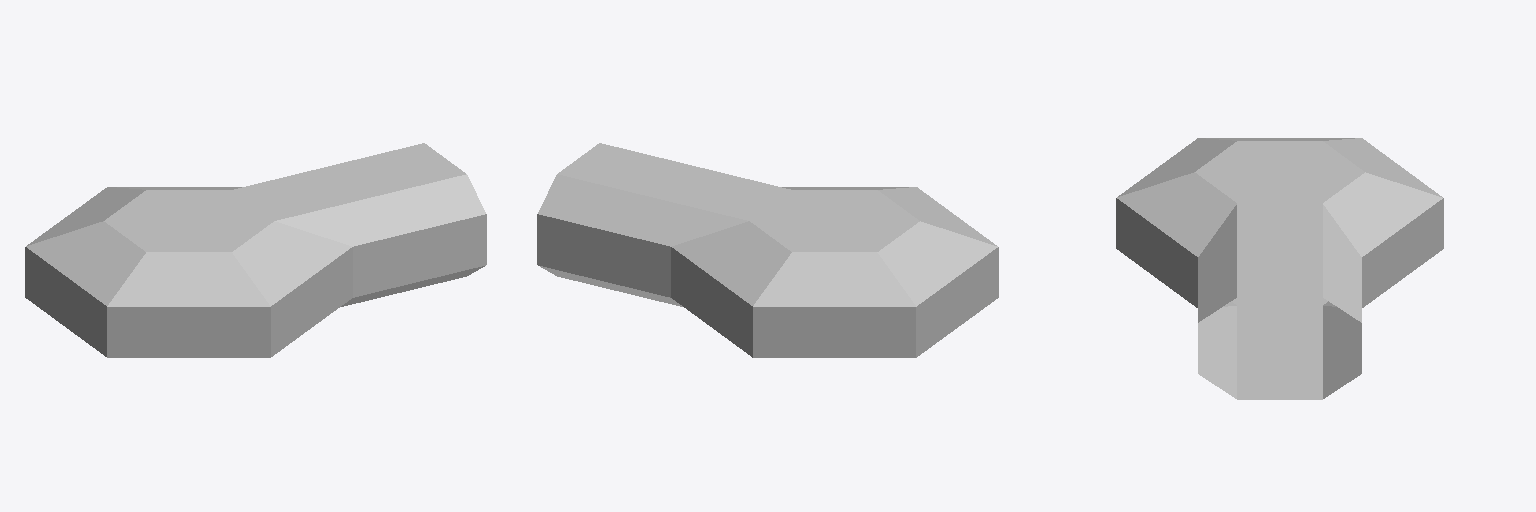
The model's file is Block10.obj.
The picture shows the model from 3 angles: view 1: azimuth 30°, elevation 25°; view 2: azimuth 150°, elevation 25°; view 3: azimuth 270°, elevation 25°; orthographic projection.
Parts seen in each view (by area): view 1: Block10.001_Cylinder.027; view 2: Block10.001_Cylinder.027; view 3: Block10.001_Cylinder.027.
Part boxes in pixels (bbox=[...]): Block10.001_Cylinder.027: bbox=[25, 143, 486, 357]; Block10.001_Cylinder.027: bbox=[537, 143, 998, 357]; Block10.001_Cylinder.027: bbox=[1116, 138, 1443, 399].
Bounding box in the file's own units: 1.28 × 0.3302 × 0.9569.